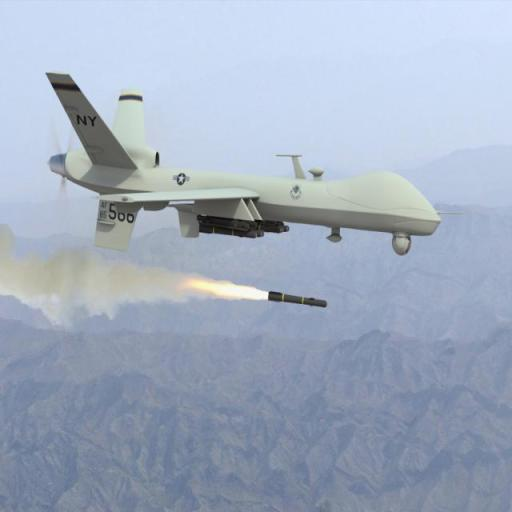uav: (34, 68, 460, 286)
